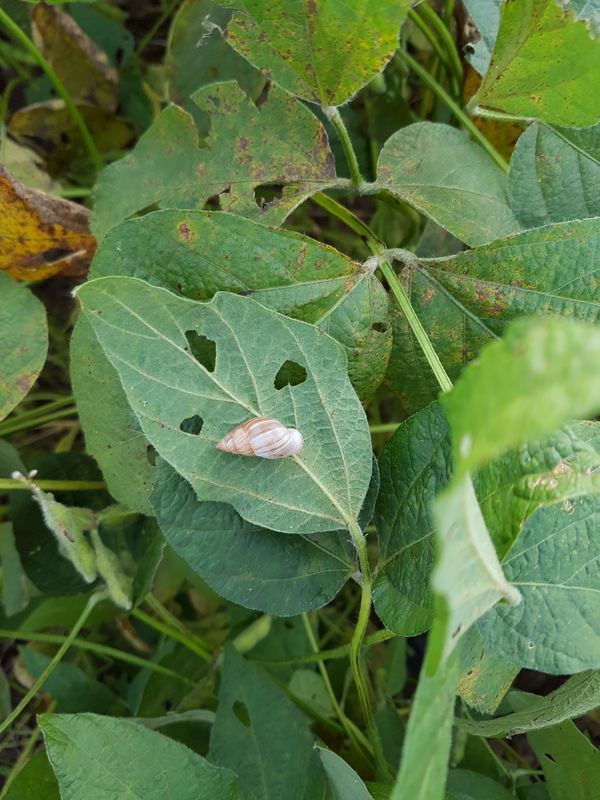Gastropoda: (209, 399, 311, 482)
